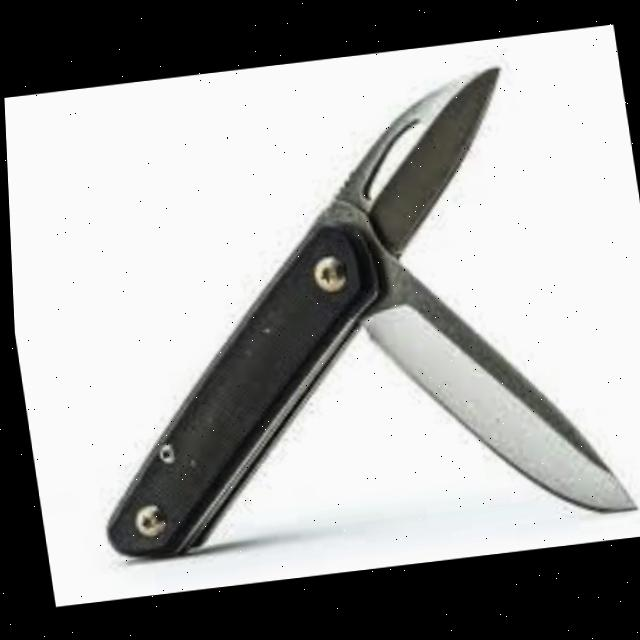Knife: (41, 55, 636, 572)
